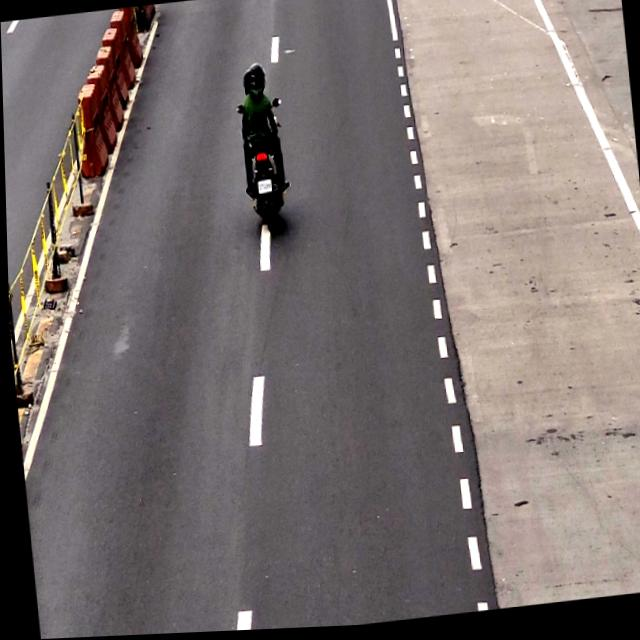License-Plate: (253, 180, 273, 198)
Motorcycle: (234, 65, 289, 232)
